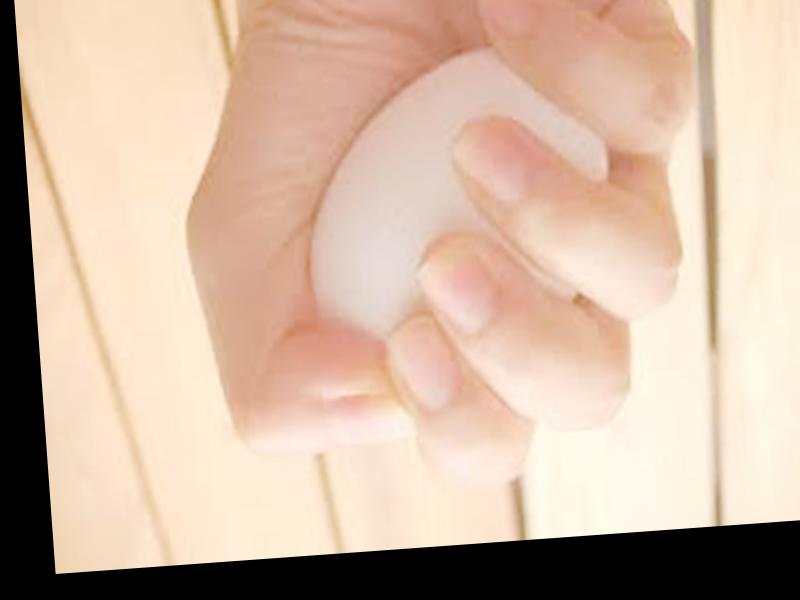Eggs: (296, 40, 626, 376)
